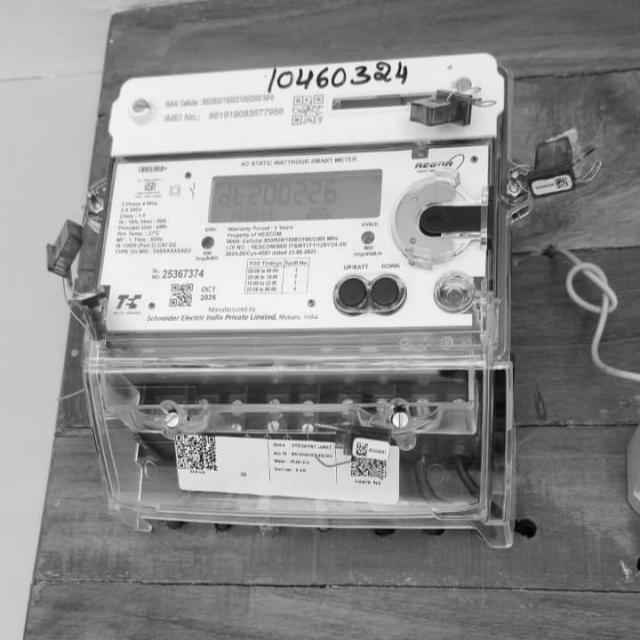meter: (105, 52, 493, 331)
